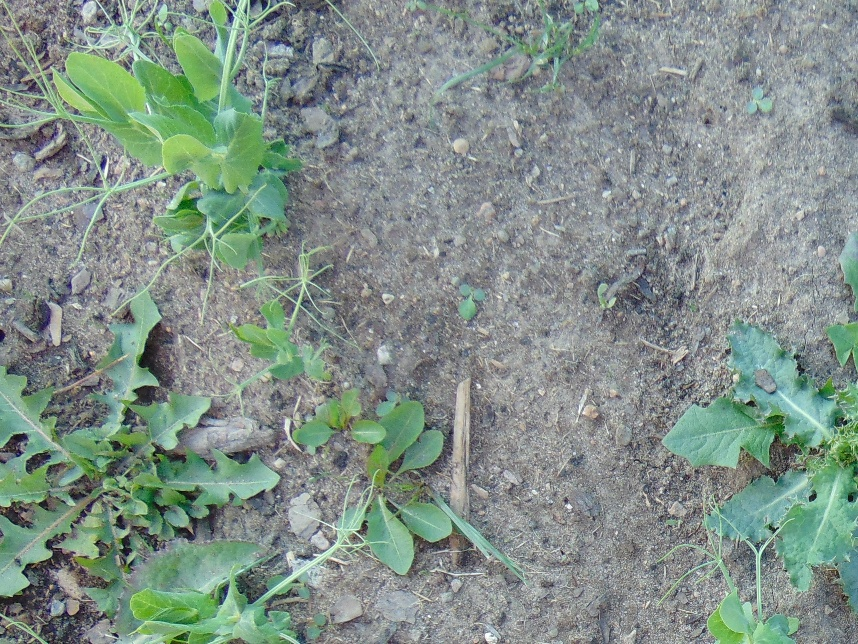crop: (10, 1, 290, 299), (217, 252, 328, 410), (682, 517, 799, 644), (232, 519, 363, 628), (123, 573, 322, 644)
weed: (1, 295, 257, 587), (660, 322, 858, 471), (727, 438, 858, 586), (365, 399, 454, 575), (289, 387, 385, 448), (493, 14, 589, 75), (840, 227, 858, 321), (456, 281, 485, 321), (745, 86, 774, 116), (304, 614, 329, 638)
